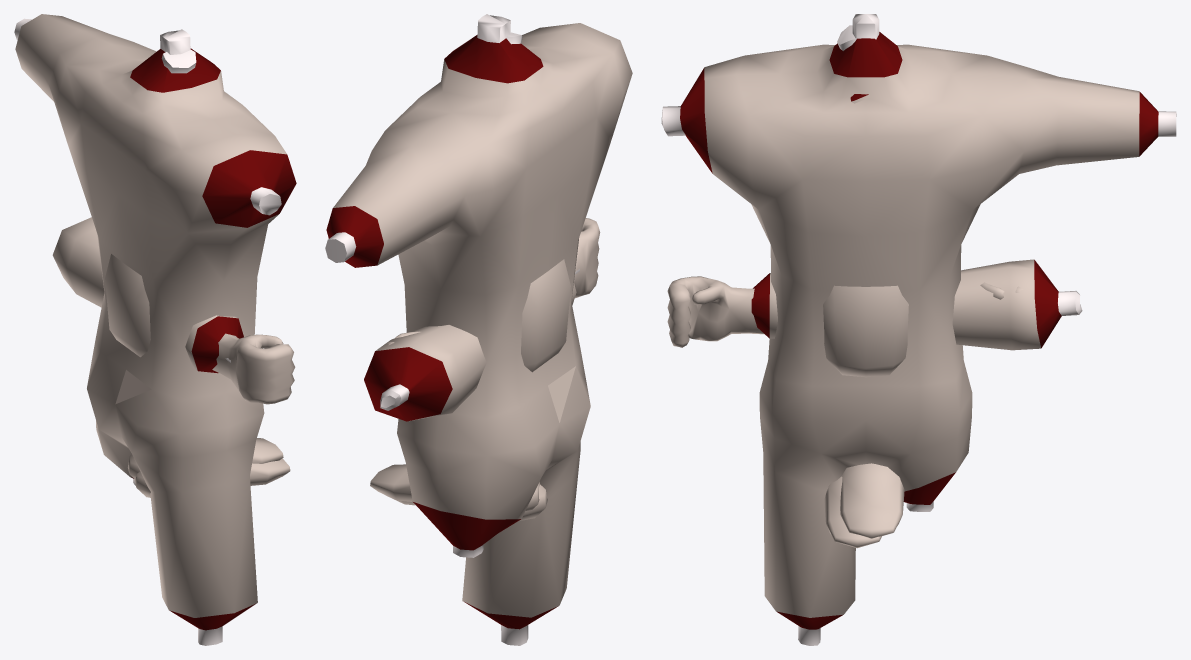
File: HumanFlesh_Finn.fbx
3 views of the same model, side by side, from view 1: azimuth 30°, elevation 25°; view 2: azimuth 150°, elevation 25°; view 3: azimuth 270°, elevation 25° (orthographic). The views are drawn at different scales.
Parts seen in each view (by area): view 1: Torso, ArmRight, Head, ArmLeft, LegLeft, LegRight; view 2: Torso, ArmRight, Head, LegRight, LegLeft; view 3: Torso, ArmRight, Head, LegRight, LegLeft, ArmLeft.
Boxes of the visible parts, bbox=[...] form: Torso: bbox=[14, 14, 296, 645]; ArmRight: bbox=[52, 217, 295, 404]; Head: bbox=[105, 254, 150, 357]; ArmLeft: bbox=[185, 315, 243, 373]; LegLeft: bbox=[134, 50, 290, 497]; LegRight: bbox=[128, 438, 283, 478]; Torso: bbox=[325, 14, 632, 645]; ArmRight: bbox=[364, 218, 600, 421]; Head: bbox=[521, 259, 570, 372]; LegRight: bbox=[370, 464, 539, 510]; LegLeft: bbox=[385, 32, 547, 521]; Torso: bbox=[661, 14, 1176, 645]; ArmRight: bbox=[667, 259, 1082, 350]; Head: bbox=[823, 285, 908, 377]; LegRight: bbox=[840, 463, 904, 538]; LegLeft: bbox=[824, 25, 881, 548]; ArmLeft: bbox=[751, 273, 1023, 338].
Size of the model in its own units: 33.24 by 110 by 83.23.
